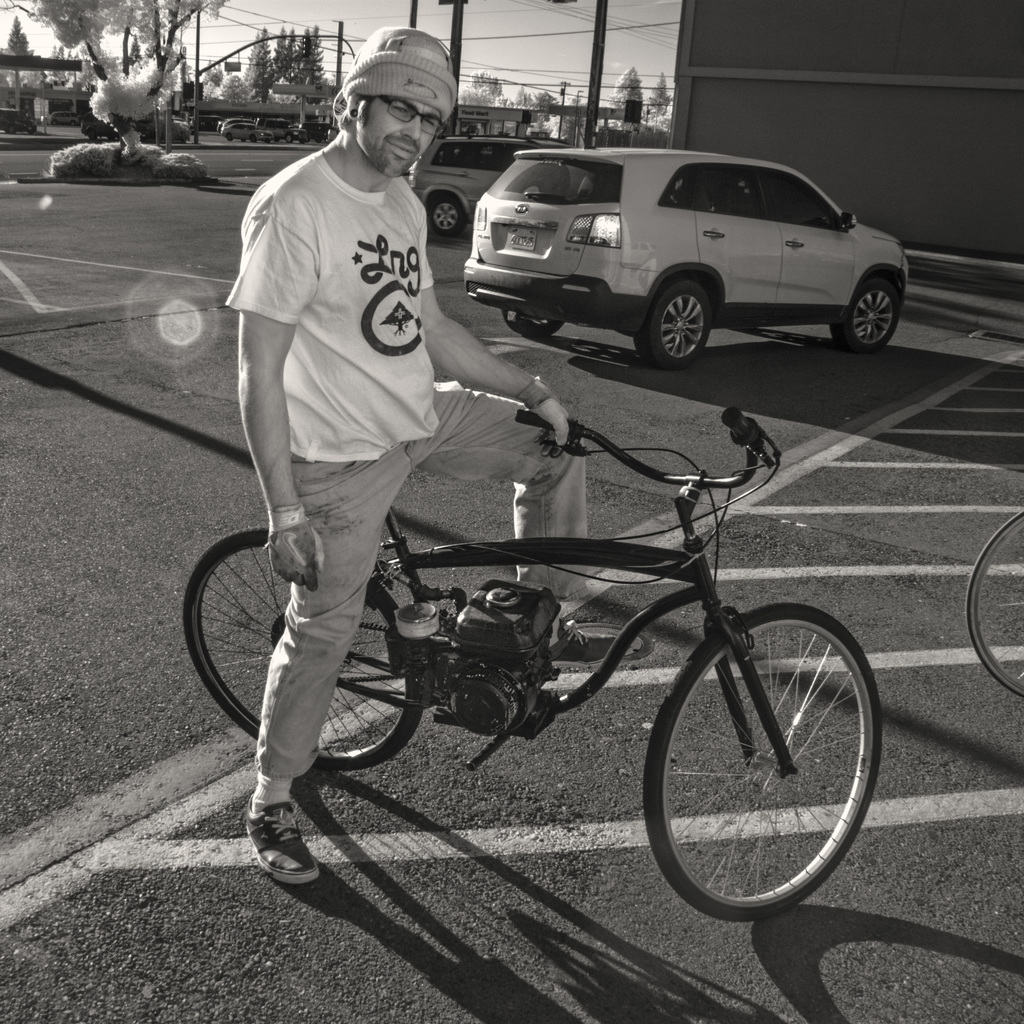Bicycle: (192, 408, 877, 940), (965, 508, 1023, 700)
